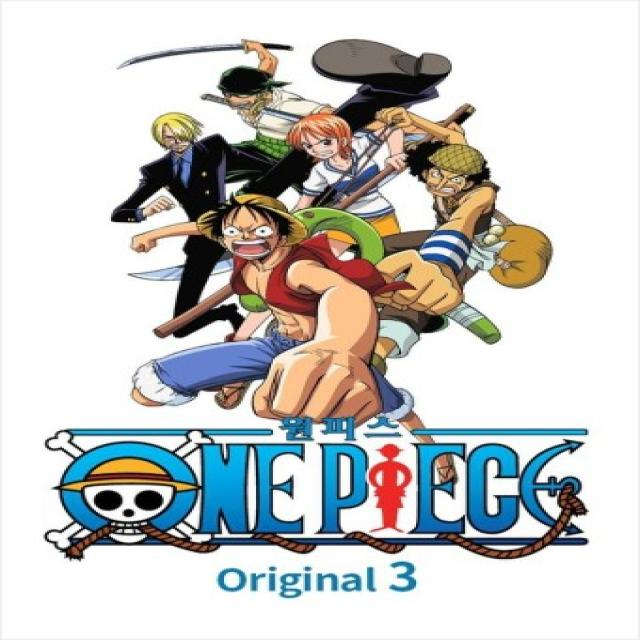Luffy: (200, 187, 296, 267)
Nami: (275, 110, 363, 167)
Sangdi: (143, 110, 212, 153)
Usopp: (403, 140, 492, 201)
Zoro: (201, 61, 291, 118)
